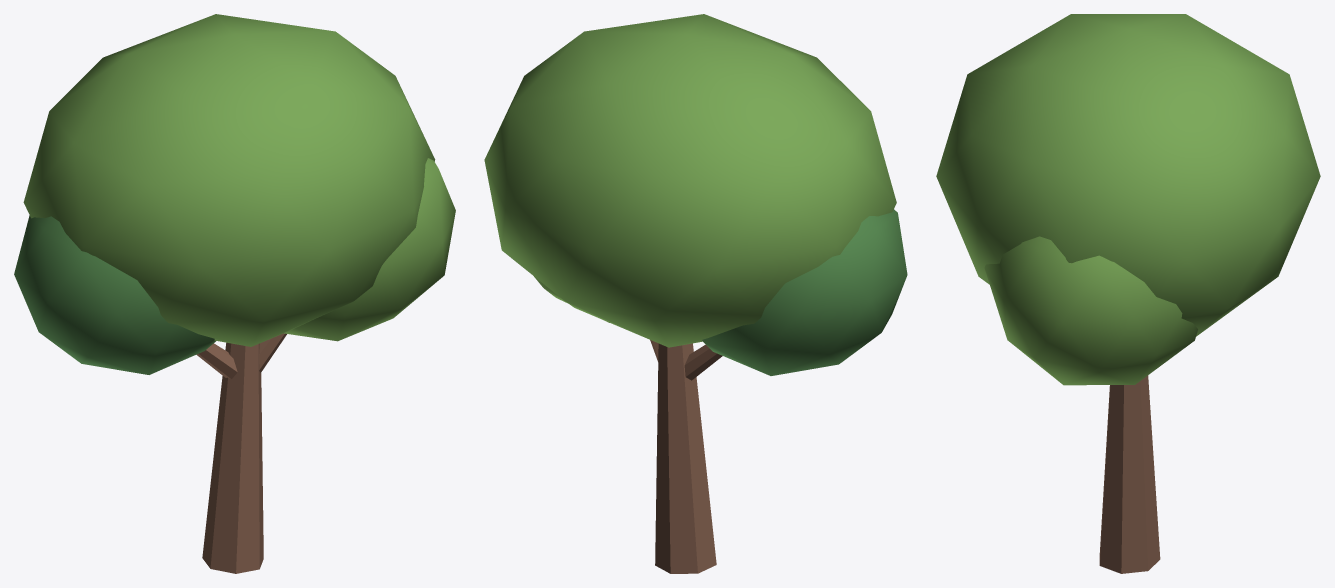
File: broadleaf_tree_round_01.glb
The picture shows the model from 3 angles, left to right: view 1: azimuth 30°, elevation 25°; view 2: azimuth 150°, elevation 25°; view 3: azimuth 270°, elevation 25°; orthographic projection.
Visible parts, largest first — view 1: broadleaf_tree_round_01; view 2: broadleaf_tree_round_01; view 3: broadleaf_tree_round_01.
Part boxes in pixels (bbox=[...]): broadleaf_tree_round_01: bbox=[14, 14, 455, 573]; broadleaf_tree_round_01: bbox=[484, 14, 907, 573]; broadleaf_tree_round_01: bbox=[936, 14, 1320, 573].
Size of the model in its own units: 2.18 by 2.8 by 1.84.
